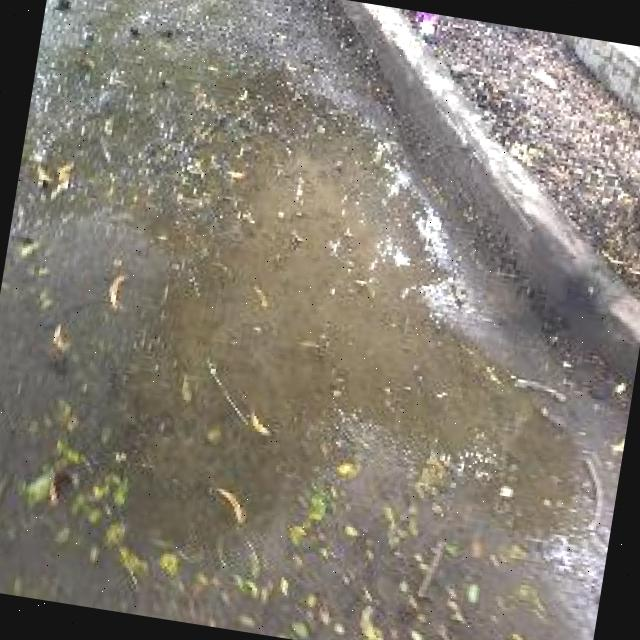stagnation: (88, 44, 452, 580), (408, 299, 594, 556)
